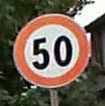limite 50: (12, 13, 88, 88)
